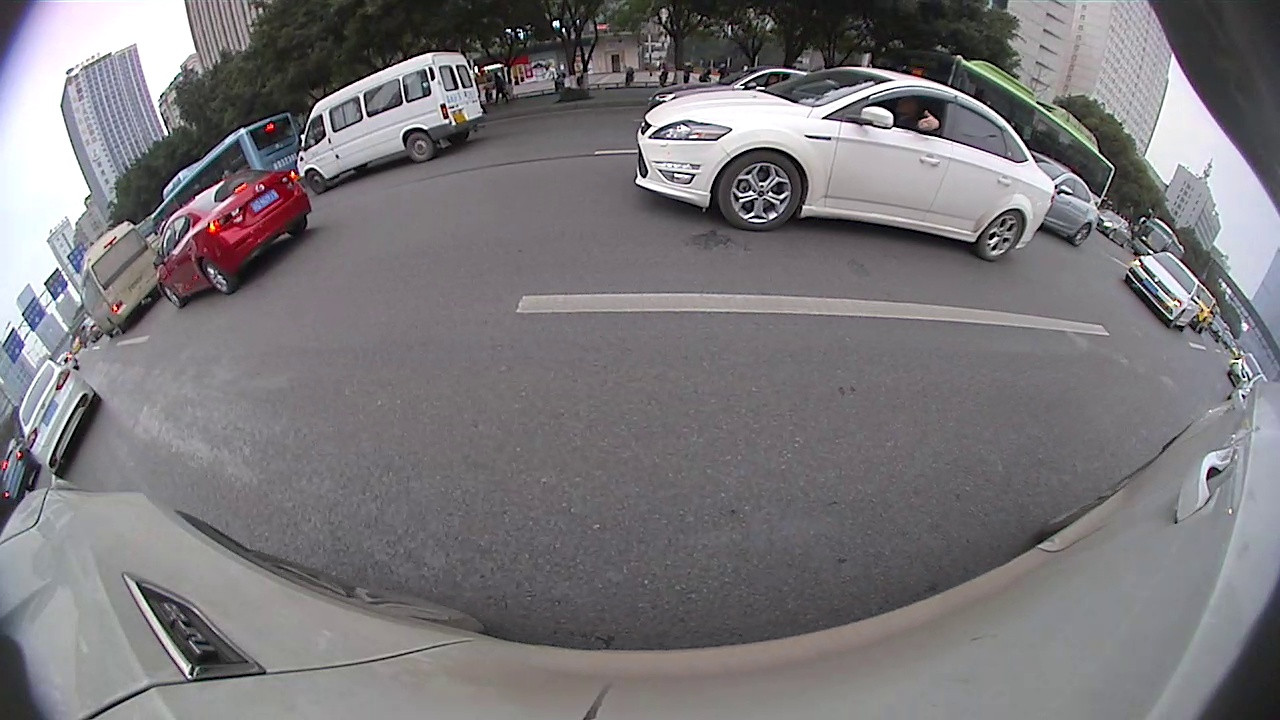bus: (885, 51, 1114, 208), (155, 115, 295, 227), (81, 223, 158, 345)
car: (635, 66, 1055, 261), (297, 51, 479, 192), (158, 171, 309, 307), (18, 361, 102, 477), (1033, 152, 1097, 246), (1126, 251, 1199, 330)
front: (716, 153, 802, 232), (160, 283, 185, 307), (305, 169, 322, 191)
rear: (976, 208, 1023, 258), (200, 259, 234, 291), (405, 134, 432, 159), (1072, 222, 1093, 247)
